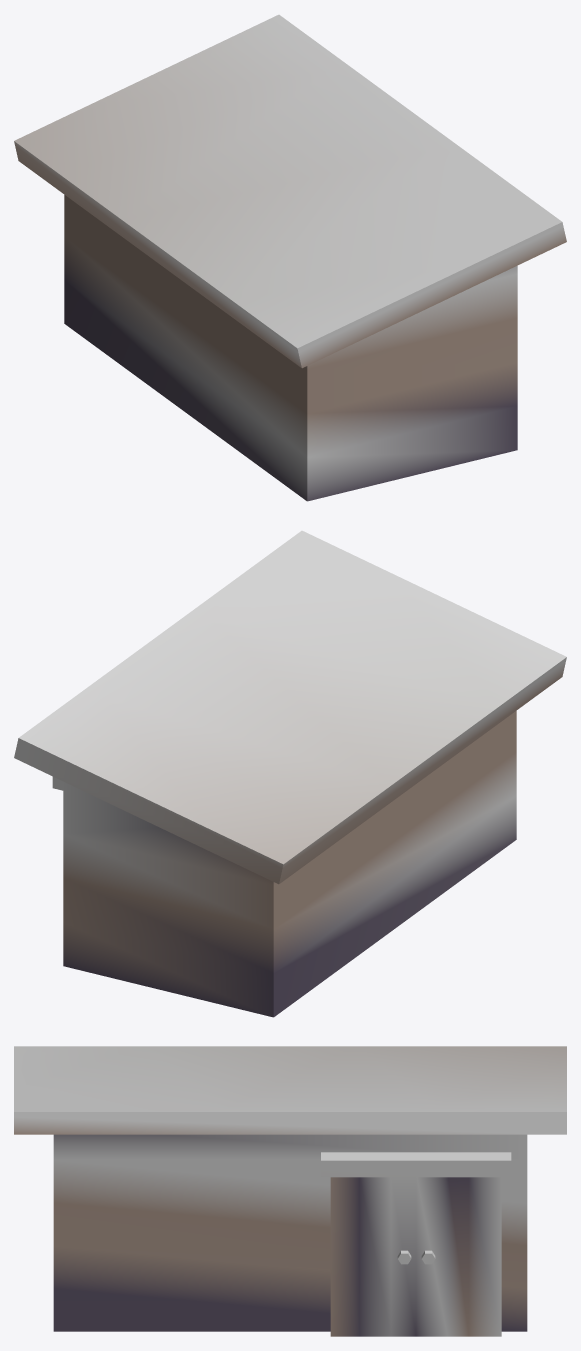
Rendered from Prop_Barn2V3.fbx.
The picture shows the model from 3 angles, top to bottom: view 1: azimuth 30°, elevation 25°; view 2: azimuth 150°, elevation 25°; view 3: azimuth 270°, elevation 25°; orthographic projection. The views are drawn at different scales.
Visible parts, largest first — view 1: Prop_Barn02; view 2: Prop_Barn02; view 3: Prop_Barn02.
Boxes of the visible parts, <box> form: Prop_Barn02: <box>14,14,566,501</box>; Prop_Barn02: <box>14,530,566,1017</box>; Prop_Barn02: <box>14,1046,566,1336</box>.
Bounding box in the file's own units: 256 × 215 × 467.
